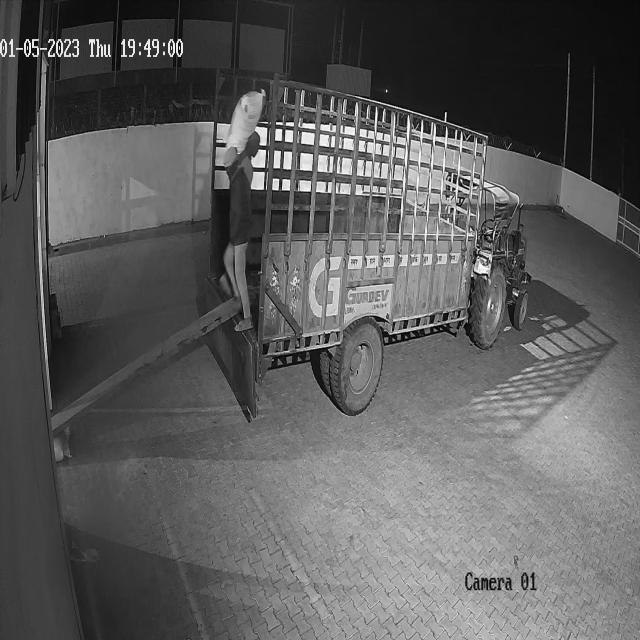sack: (225, 90, 264, 152)
